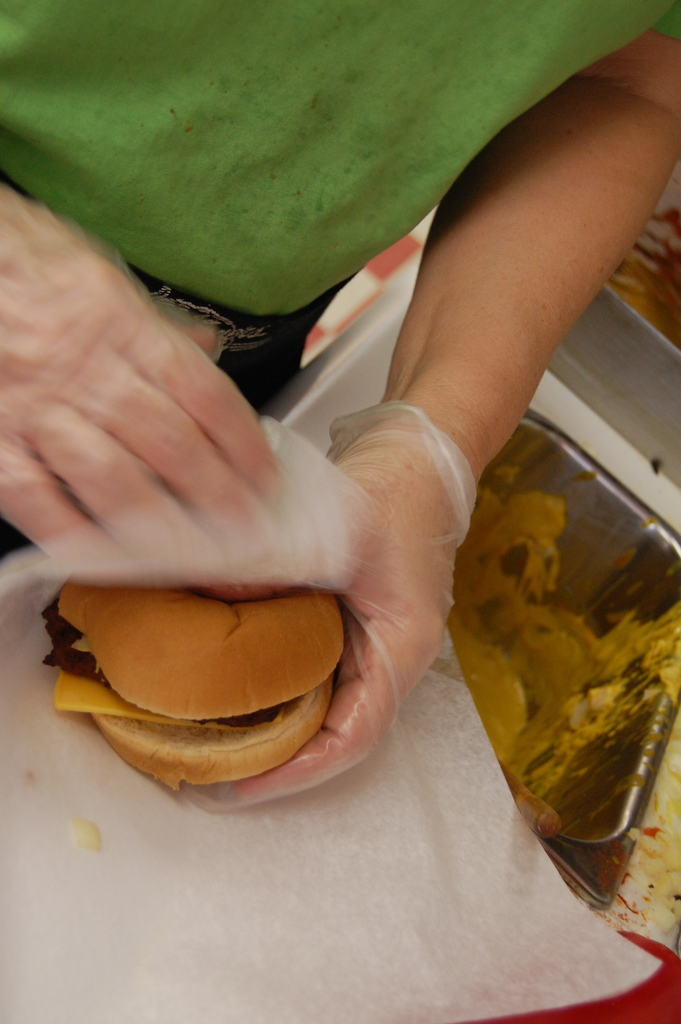Hamburger: (45, 583, 348, 795)
